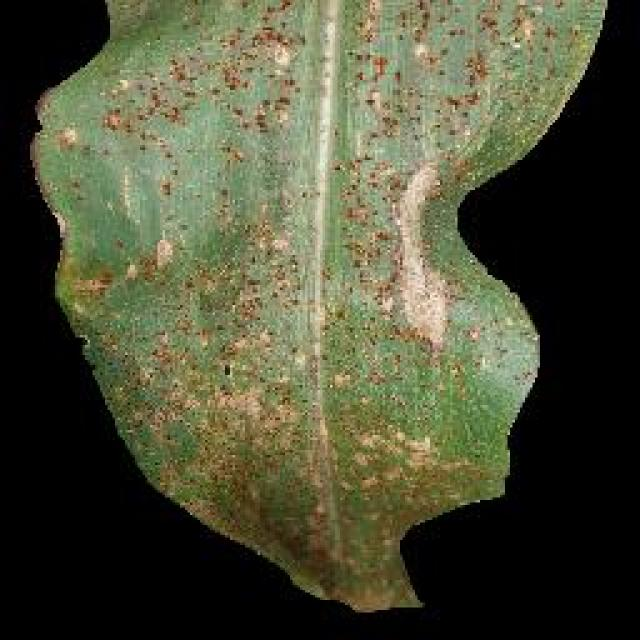Corn Common Rust: (133, 122, 535, 558)
